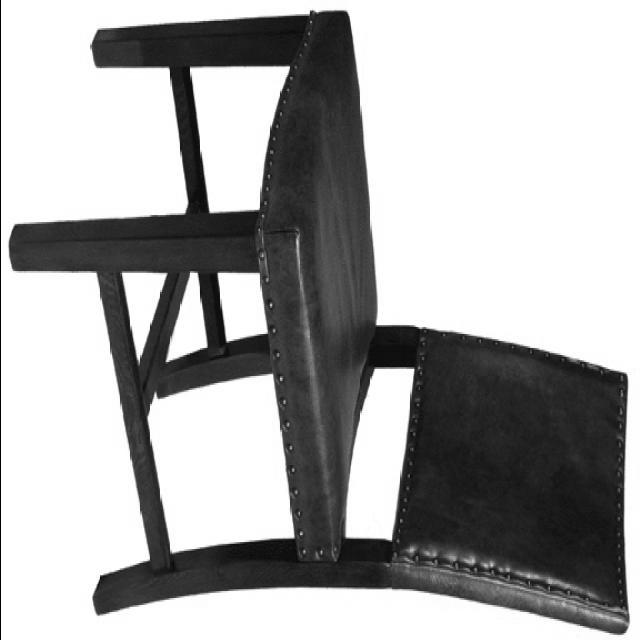chair: (9, 9, 629, 636)
